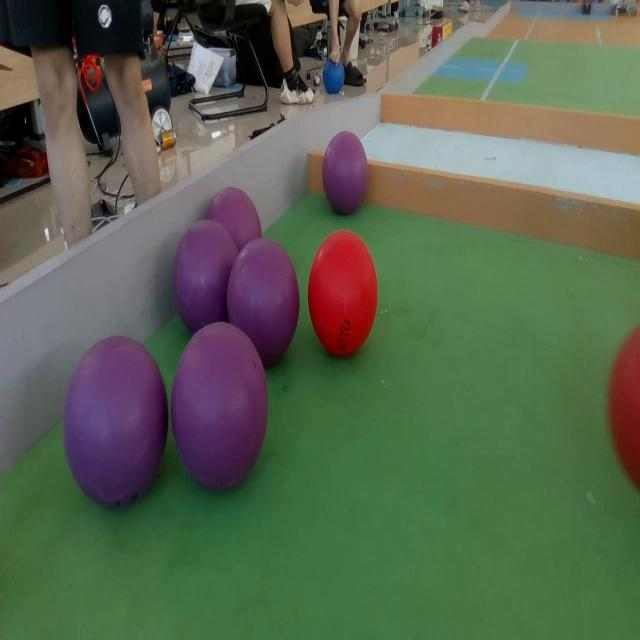invalid: (63, 345, 171, 509), (170, 320, 269, 494), (220, 235, 300, 358), (177, 222, 240, 323), (207, 184, 263, 253), (321, 131, 368, 213)
red: (309, 232, 380, 358)
